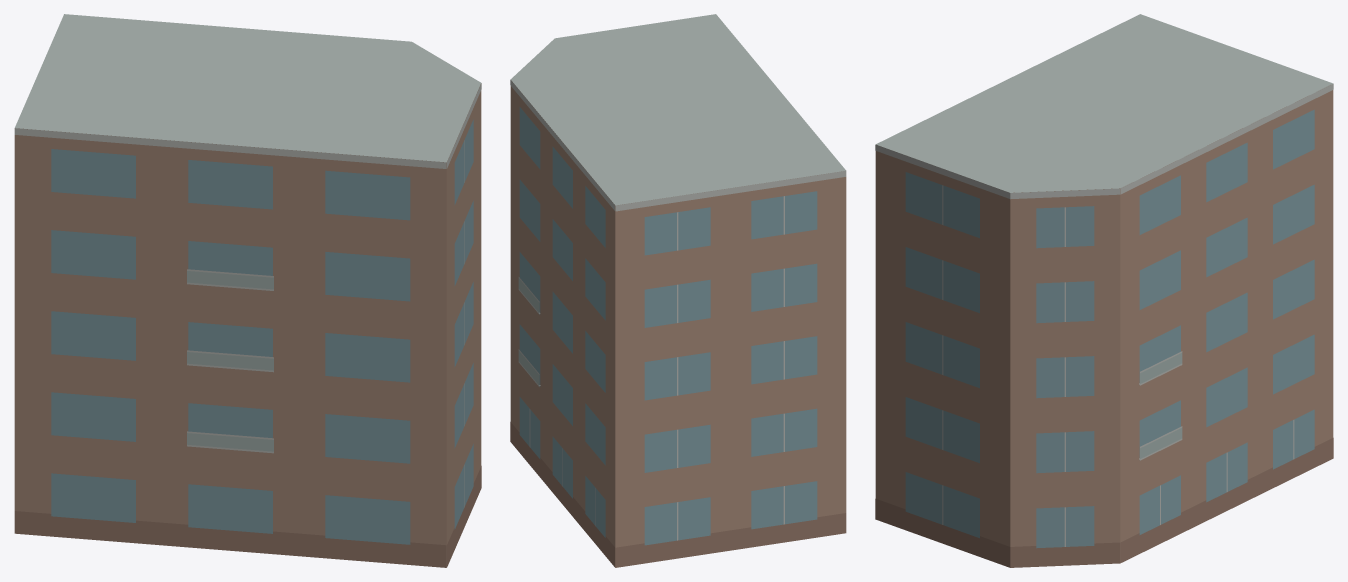
File: survey-upis-32615968.glb
3 views of the same model, side by side, from view 1: azimuth 30°, elevation 25°; view 2: azimuth 150°, elevation 25°; view 3: azimuth 270°, elevation 25° (orthographic). The views are drawn at different scales.
Visible parts, largest first — view 1: survey-upis-32615968.tmp; view 2: survey-upis-32615968.tmp; view 3: survey-upis-32615968.tmp.
Boxes of the visible parts, x1,y1,x2,y2 form: survey-upis-32615968.tmp: [14, 14, 481, 567]; survey-upis-32615968.tmp: [510, 14, 846, 567]; survey-upis-32615968.tmp: [875, 14, 1333, 567].
Bounding box in the file's own units: 14.95 × 14.6 × 16.17.
